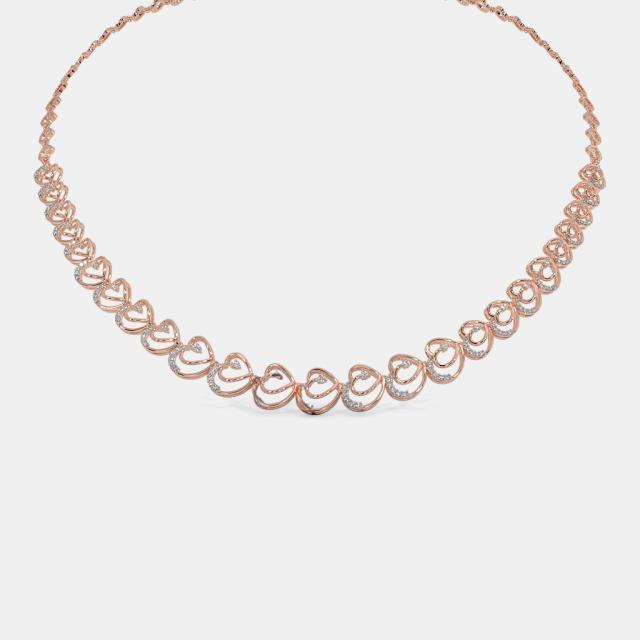missing gem: (251, 379, 275, 409), (295, 387, 315, 415), (271, 371, 283, 380)
